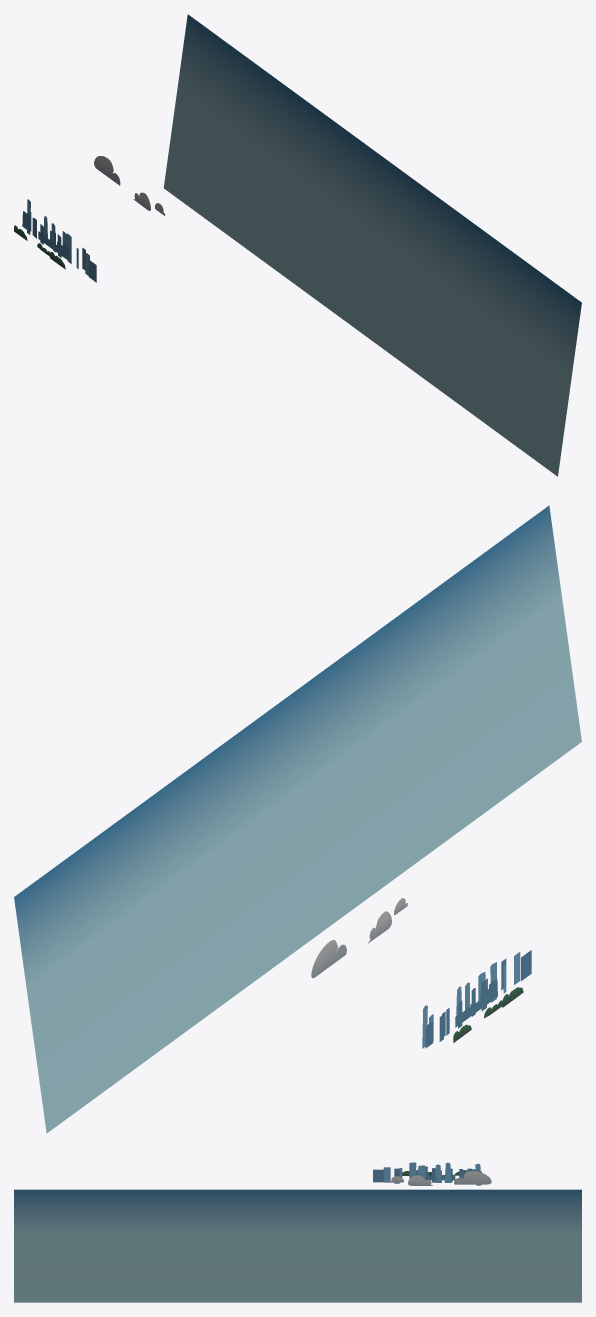
File: Yard01_Background.fbx
3 renders of one model, top to bottom at view 1: azimuth 30°, elevation 25°; view 2: azimuth 150°, elevation 25°; view 3: azimuth 270°, elevation 25°, orthographic. The views are drawn at different scales.
Visible parts, largest first — view 1: Background_Gradient_Tom, Background_Skyline; view 2: Background_Gradient_Tom, Background_Skyline; view 3: Background_Gradient_Tom, Background_Skyline.
Boxes of the visible parts, x1,y1,x2,y2 form: Background_Gradient_Tom: [163, 14, 581, 476]; Background_Skyline: [14, 156, 165, 282]; Background_Gradient_Tom: [14, 505, 581, 1133]; Background_Skyline: [311, 898, 531, 1048]; Background_Gradient_Tom: [14, 1189, 581, 1302]; Background_Skyline: [373, 1162, 491, 1185].
Size of the model in its own units: 3825 by 2475 by 10504.
